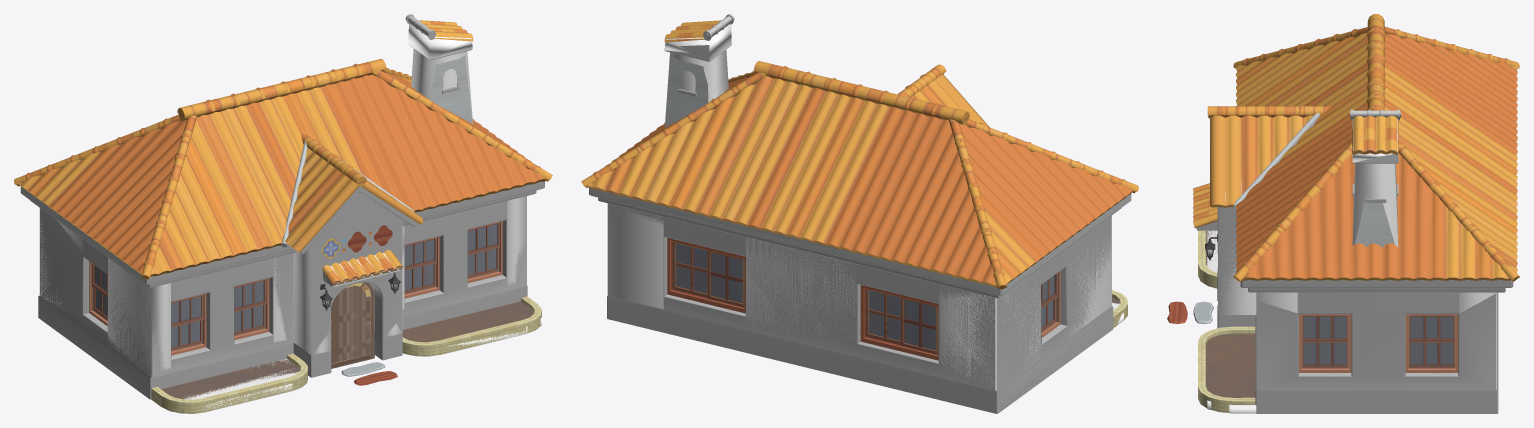
The model's file is objects_un_t02house01.gltf.
3 views of the same model, side by side, from view 1: azimuth 30°, elevation 25°; view 2: azimuth 150°, elevation 25°; view 3: azimuth 270°, elevation 25° (orthographic). The views are drawn at different scales.
Parts seen in each view (by area): view 1: nomerge_roof_shape:objects_un_t02house01_roof01, nomerge_wall_shape:objects_un_t02house01_wall01_01, um_objects_un_t02house01_model_lod0Shape:objects_un_t02house (×4), um_objects_un_t02house01_model_lod2Shape:objects_un_t02house (×3), nomerge_window_shape:objects_un_t02house01_01, nomerge_behind_shape:objects_un_behind; view 2: nomerge_roof_shape:objects_un_t02house01_roof01, nomerge_wall_shape:objects_un_t02house01_wall01_01, um_objects_un_t02house01_model_lod0Shape:objects_un_t02house (×2), um_objects_un_t02house01_model_lod2Shape:objects_un_t02house, nomerge_window_shape:objects_un_t02house01_01, nomerge_behind_shape:objects_un_behind; view 3: nomerge_roof_shape:objects_un_t02house01_roof01, nomerge_wall_shape:objects_un_t02house01_wall01_01, um_objects_un_t02house01_model_lod0Shape:objects_un_t02house (×3), um_objects_un_t02house01_model_lod2Shape:objects_un_t02house (×2), nomerge_window_shape:objects_un_t02house01_01, nomerge_behind_shape:objects_un_behind.
Part boxes in pixels (x1=…): nomerge_roof_shape:objects_un_t02house01_roof01: x1=14, y1=14, x2=552, y2=285; nomerge_wall_shape:objects_un_t02house01_wall01_01: x1=20, y1=38, x2=544, y2=413; um_objects_un_t02house01_model_lod0Shape:objects_un_t02house (×4): x1=39, y1=23, x2=541, y2=411; um_objects_un_t02house01_model_lod2Shape:objects_un_t02house (×3): x1=91, y1=223, x2=533, y2=399; nomerge_window_shape:objects_un_t02house01_01: x1=89, y1=84, x2=502, y2=385; nomerge_behind_shape:objects_un_behind: x1=105, y1=224, x2=496, y2=347; nomerge_roof_shape:objects_un_t02house01_roof01: x1=581, y1=14, x2=1138, y2=289; nomerge_wall_shape:objects_un_t02house01_wall01_01: x1=589, y1=45, x2=1131, y2=413; um_objects_un_t02house01_model_lod0Shape:objects_un_t02house (×2): x1=607, y1=24, x2=1123, y2=390; um_objects_un_t02house01_model_lod2Shape:objects_un_t02house: x1=672, y1=242, x2=1058, y2=353; nomerge_window_shape:objects_un_t02house01_01: x1=667, y1=85, x2=1060, y2=360; nomerge_behind_shape:objects_un_behind: x1=676, y1=243, x2=1053, y2=347; nomerge_roof_shape:objects_un_t02house01_roof01: x1=1193, y1=14, x2=1519, y2=281; nomerge_wall_shape:objects_un_t02house01_wall01_01: x1=1197, y1=113, x2=1513, y2=413; um_objects_un_t02house01_model_lod0Shape:objects_un_t02house (×3): x1=1195, y1=119, x2=1497, y2=413; um_objects_un_t02house01_model_lod2Shape:objects_un_t02house (×2): x1=1206, y1=231, x2=1454, y2=397; nomerge_window_shape:objects_un_t02house01_01: x1=1167, y1=170, x2=1458, y2=372; nomerge_behind_shape:objects_un_behind: x1=1304, y1=317, x2=1452, y2=364.
Size of what is drawn, in the model's own units: 12.52 by 7.59 by 8.63.
11 materials, 9 textured.
